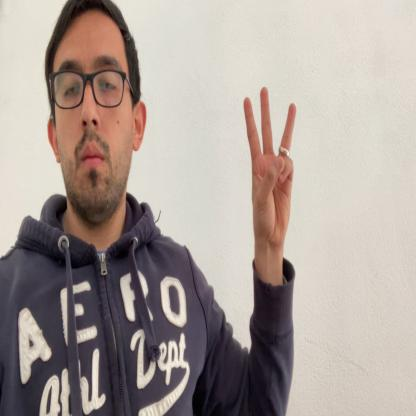W: (244, 88, 296, 247)
